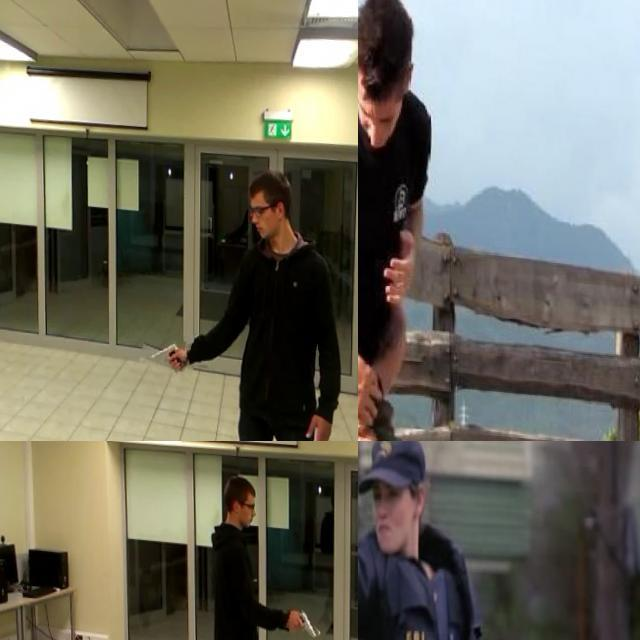-: (358, 421, 439, 441)
gun-knife-thesis - v11 Yolov5 augmented: (358, 474, 395, 572), (142, 324, 192, 367), (286, 590, 325, 630)
